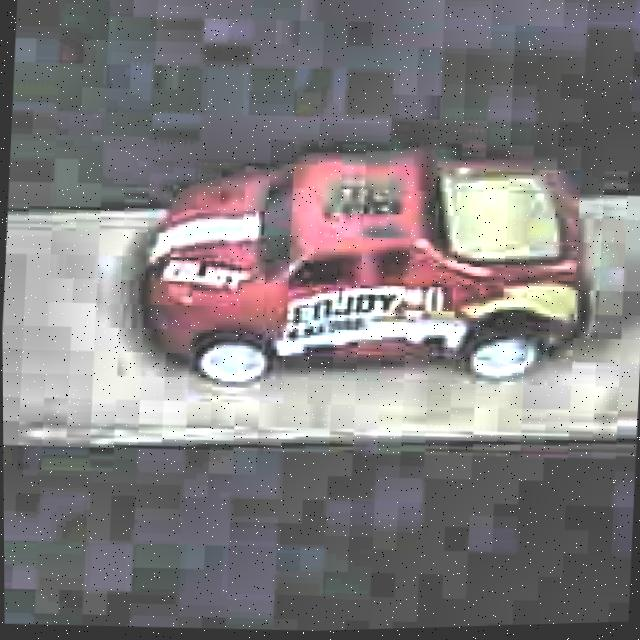car: (128, 126, 600, 407)
